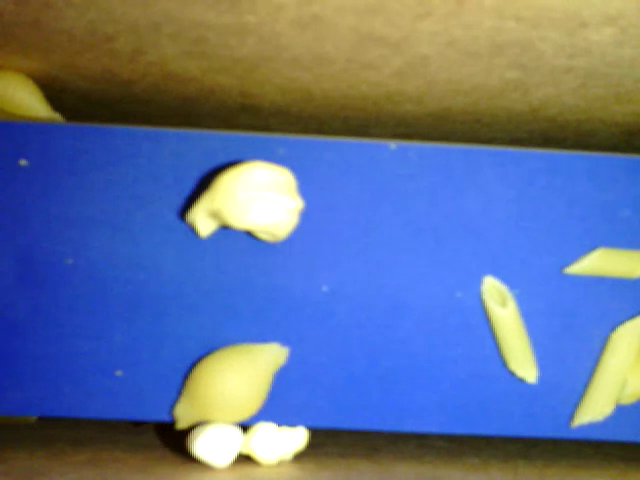penne: (572, 319, 637, 429), (477, 272, 538, 388), (561, 246, 639, 281)
shell: (168, 337, 292, 430), (3, 69, 67, 126)
tortellini: (184, 153, 301, 240)
